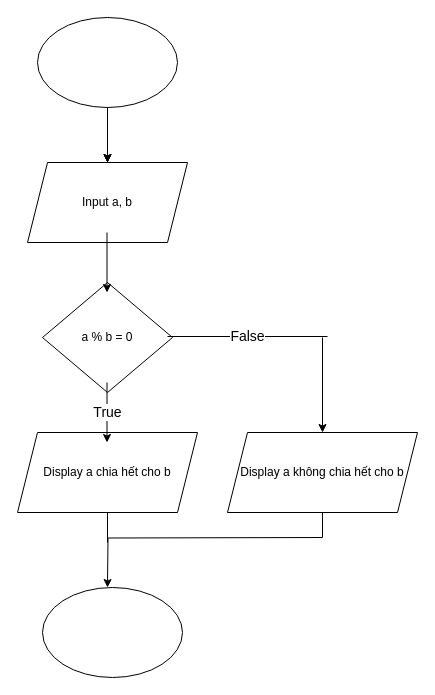
Some shapes in this 435 by 695 pixel diagram are drawn without their labels. The centre of each missing label's shape, as x and y in pixels:
"End" goes at (x=112, y=632).
"Start" goes at (x=107, y=62).
